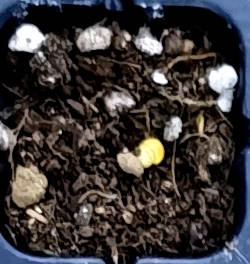pepper seed: (56, 55, 221, 221), (53, 61, 208, 230)
